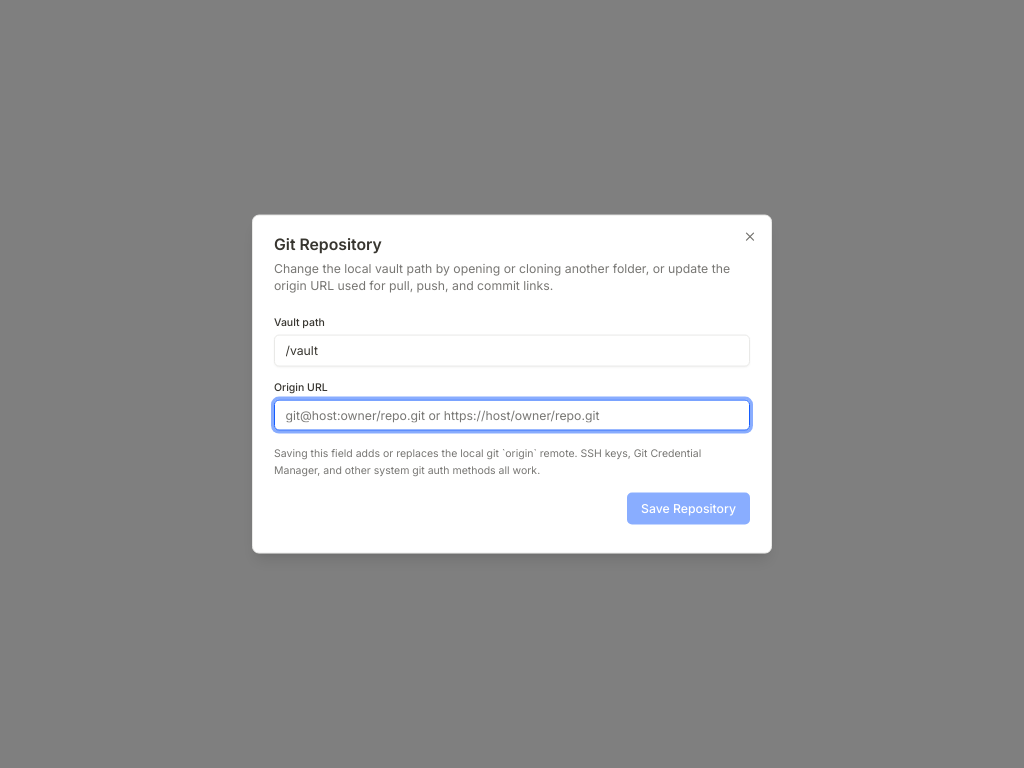
Test case: AddRemoteModal › shows backend validation errors without closing the modal
Type "https://example.com/repo.git" into the field with test id "add-remote-url" at (512,415), box [274,399,750,431]
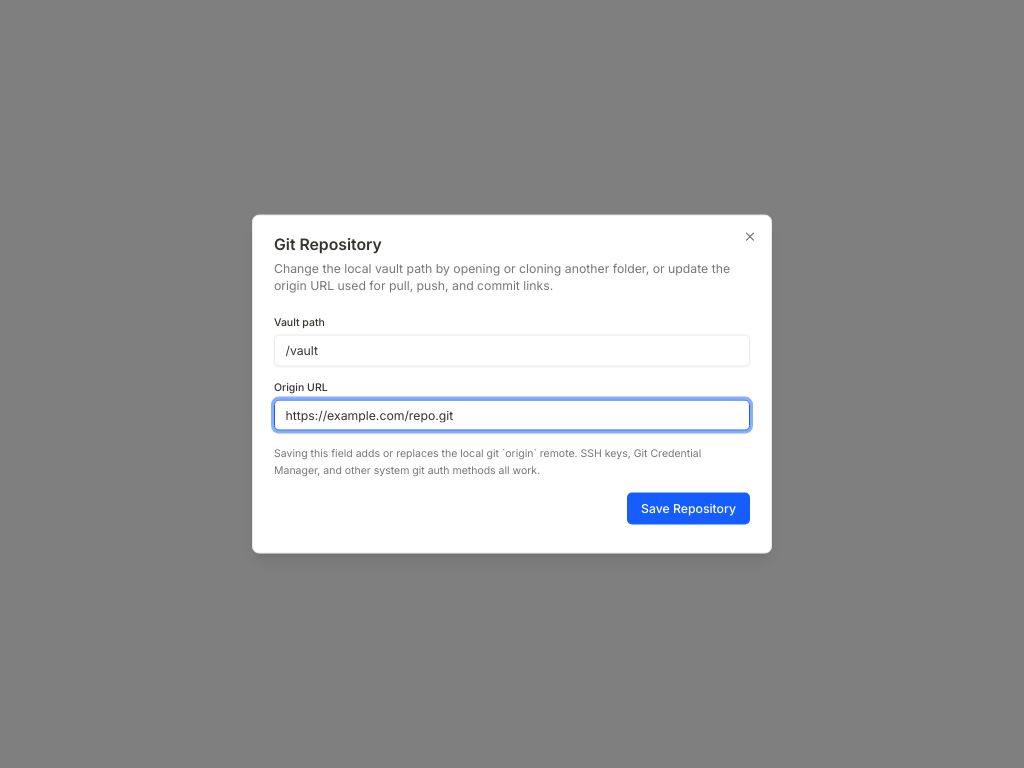
Click the button with test id "add-remote-submit" at (688,509), box [627,493,750,524]
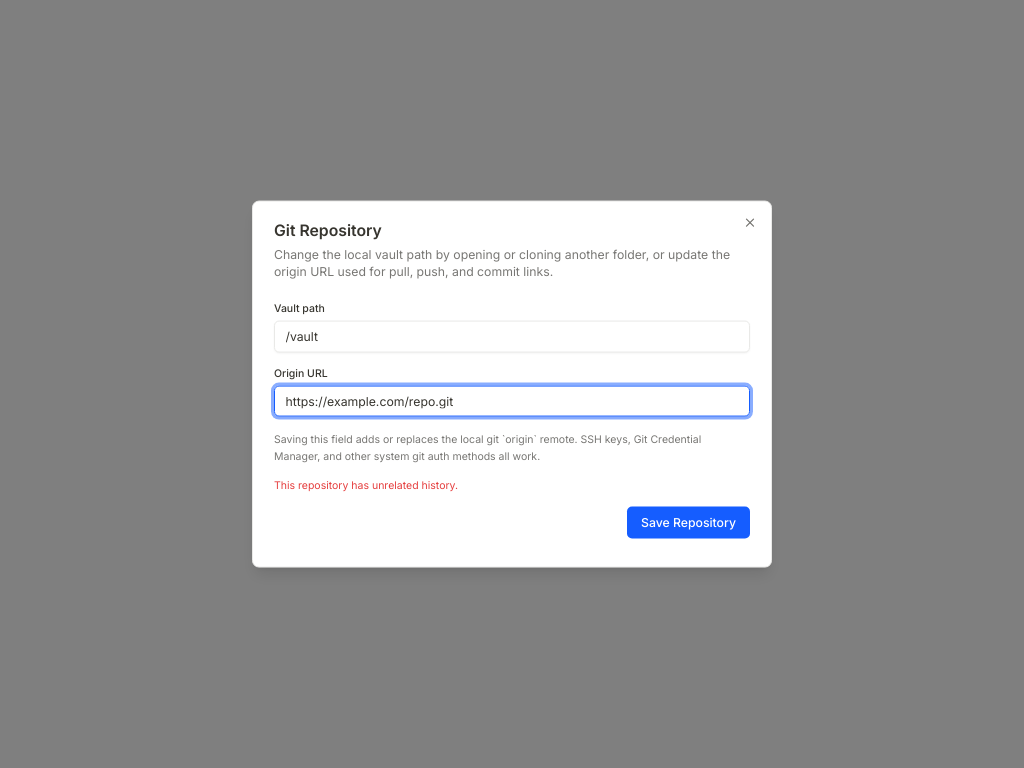
Check: the text with test id "add-remote-error" reads "This repository has unrelated history.", box [274,479,458,492]
